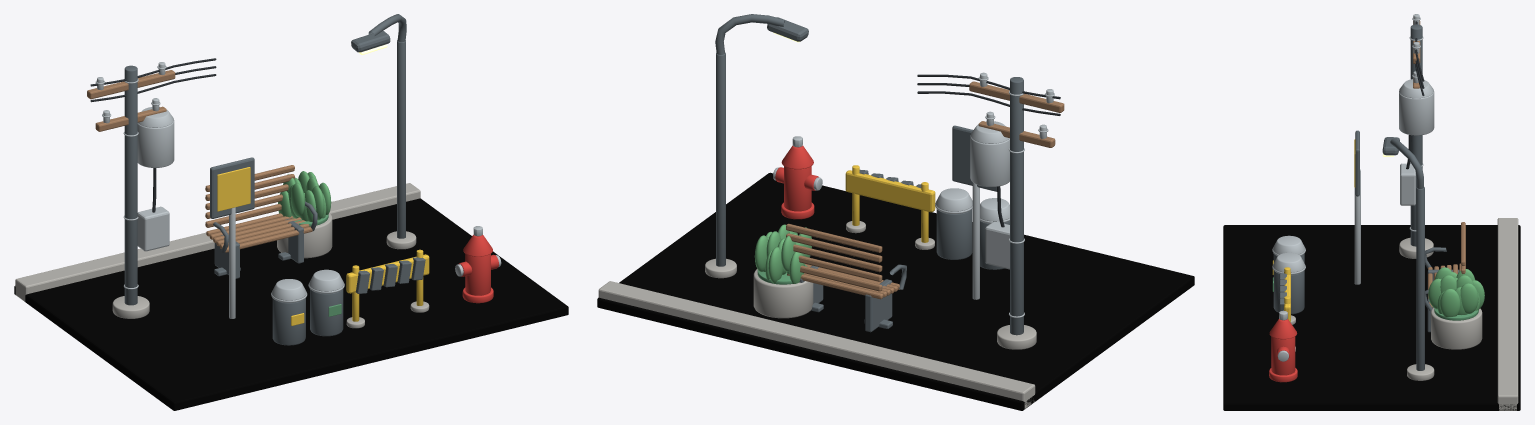
The model's file is webtoon_street_prop_pack.glb.
3 views of the same model, side by side, from view 1: azimuth 30°, elevation 25°; view 2: azimuth 150°, elevation 25°; view 3: azimuth 270°, elevation 25° (orthographic). The views are drawn at different scales.
Visible parts, largest first — view 1: Street_DisplayBase, webtoon_street_prop_pack_Batch_02_StreetConcrete, webtoon_street_prop_pack_Batch_03_StreetDarkSteel, webtoon_street_prop_pack_Batch_04_StreetGalvanized, webtoon_street_prop_pack_Batch_10_StreetWood, UtilityPole_Shaft, webtoon_street_prop_pack_Batch_09_StreetSafetyYellow, webtoon_street_prop_pack_Batch_07_StreetLeaves, StreetLamp_Pole, UtilityPole_Transformer, Bin_1_Body, Signpost_Board (+5 smaller); view 2: Street_DisplayBase, webtoon_street_prop_pack_Batch_02_StreetConcrete, webtoon_street_prop_pack_Batch_10_StreetWood, webtoon_street_prop_pack_Batch_04_StreetGalvanized, webtoon_street_prop_pack_Batch_03_StreetDarkSteel, UtilityPole_Shaft, StreetLamp_Pole, webtoon_street_prop_pack_Batch_07_StreetLeaves, Planter_Pot, Barrier_Board, UtilityPole_Transformer, webtoon_street_prop_pack_Batch_05_StreetHydrantRed (+4 smaller); view 3: Street_DisplayBase, webtoon_street_prop_pack_Batch_02_StreetConcrete, webtoon_street_prop_pack_Batch_04_StreetGalvanized, webtoon_street_prop_pack_Batch_03_StreetDarkSteel, webtoon_street_prop_pack_Batch_07_StreetLeaves, StreetLamp_Pole, Planter_Pot, UtilityPole_Transformer, UtilityPole_Shaft, Hydrant_Body, webtoon_street_prop_pack_Batch_05_StreetHydrantRed, webtoon_street_prop_pack_Batch_10_StreetWood (+2 smaller).
Boxes of the visible parts, <box> form: Street_DisplayBase: <box>14,198,568,410</box>; webtoon_street_prop_pack_Batch_02_StreetConcrete: <box>15,183,429,328</box>; webtoon_street_prop_pack_Batch_03_StreetDarkSteel: <box>213,14,425,336</box>; webtoon_street_prop_pack_Batch_04_StreetGalvanized: <box>95,62,501,318</box>; webtoon_street_prop_pack_Batch_10_StreetWood: <box>87,70,309,249</box>; UtilityPole_Shaft: <box>124,65,137,305</box>; webtoon_street_prop_pack_Batch_09_StreetSafetyYellow: <box>217,167,423,325</box>; webtoon_street_prop_pack_Batch_07_StreetLeaves: <box>278,171,331,222</box>; StreetLamp_Pole: <box>397,40,405,238</box>; UtilityPole_Transformer: <box>137,120,174,167</box>; Bin_1_Body: <box>272,298,305,345</box>; Signpost_Board: <box>210,157,254,218</box>; Street_DisplayBase: <box>597,172,1194,410</box>; webtoon_street_prop_pack_Batch_02_StreetConcrete: <box>598,221,1036,409</box>; webtoon_street_prop_pack_Batch_10_StreetWood: <box>786,81,1064,299</box>; webtoon_street_prop_pack_Batch_04_StreetGalvanized: <box>773,72,1054,317</box>; webtoon_street_prop_pack_Batch_03_StreetDarkSteel: <box>715,14,972,332</box>; UtilityPole_Shaft: <box>1010,77,1023,335</box>; StreetLamp_Pole: <box>716,52,725,266</box>; webtoon_street_prop_pack_Batch_07_StreetLeaves: <box>754,224,811,283</box>; Planter_Pot: <box>753,269,813,318</box>; Barrier_Board: <box>845,170,935,212</box>; UtilityPole_Transformer: <box>970,136,1009,186</box>; webtoon_street_prop_pack_Batch_05_StreetHydrantRed: <box>775,145,818,219</box>; Street_DisplayBase: <box>1223,225,1520,410</box>; webtoon_street_prop_pack_Batch_02_StreetConcrete: <box>1290,218,1518,410</box>; webtoon_street_prop_pack_Batch_04_StreetGalvanized: <box>1272,14,1433,361</box>; webtoon_street_prop_pack_Batch_03_StreetDarkSteel: <box>1273,137,1459,332</box>; webtoon_street_prop_pack_Batch_07_StreetLeaves: <box>1428,267,1484,316</box>; StreetLamp_Pole: <box>1416,187,1424,370</box>; Planter_Pot: <box>1431,307,1482,349</box>; UtilityPole_Transformer: <box>1399,91,1434,135</box>; UtilityPole_Shaft: <box>1410,24,1422,246</box>; Hydrant_Body: <box>1271,336,1295,375</box>; webtoon_street_prop_pack_Batch_05_StreetHydrantRed: <box>1269,319,1297,382</box>; webtoon_street_prop_pack_Batch_10_StreetWood: <box>1413,20,1465,279</box>.
Size of the model in its own units: 7.4 by 4.51 by 5.2.
Materials: 11 (1 with a texture image).
